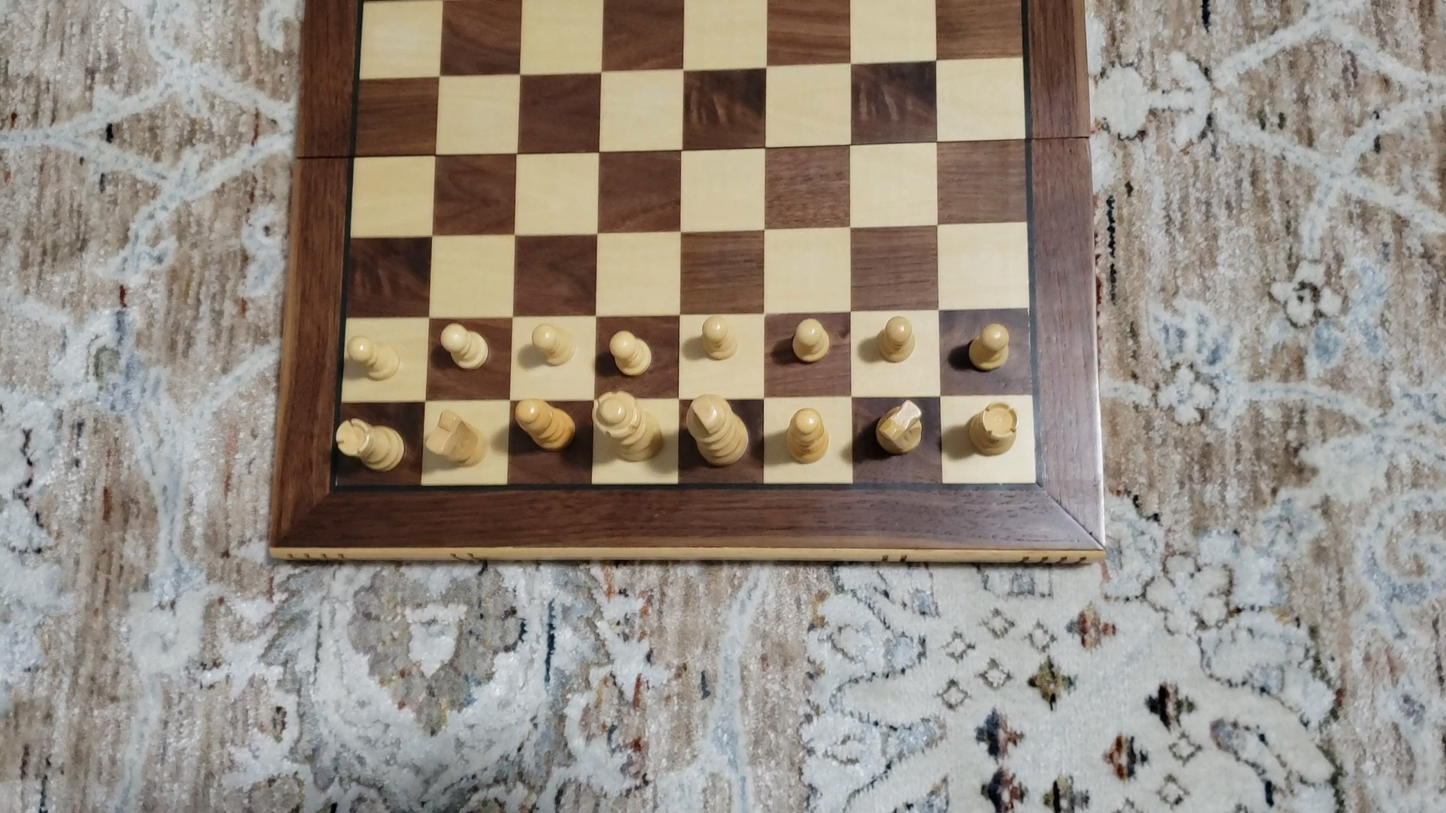white-bishop: (511, 396, 576, 451), (785, 405, 830, 467)
white-king: (686, 392, 750, 468)
white-knight: (870, 394, 934, 464), (425, 407, 485, 470)
white-pawn: (961, 318, 1015, 375), (345, 333, 402, 383), (437, 320, 491, 372), (871, 312, 921, 366), (787, 314, 833, 366), (607, 327, 654, 377), (528, 321, 576, 369), (696, 312, 742, 362)
white-queen: (593, 390, 663, 464)
white-rook: (336, 416, 405, 474), (965, 400, 1021, 459)
